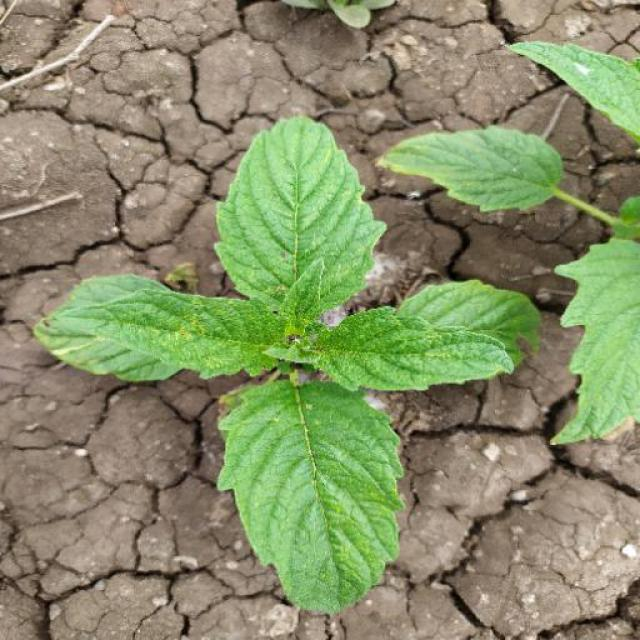crop: (38, 106, 552, 639)
